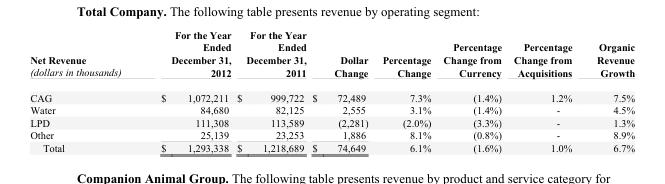table: (29, 28, 634, 153)
table column: (29, 28, 140, 153), (140, 28, 233, 153), (507, 28, 583, 153), (233, 28, 308, 153), (436, 28, 507, 153), (308, 28, 374, 153), (374, 28, 436, 153), (583, 28, 634, 153)
table column header: (29, 28, 634, 84)
table row: (29, 28, 634, 84), (29, 84, 634, 103), (29, 103, 634, 116), (29, 128, 634, 141), (29, 116, 634, 128), (29, 141, 634, 153)
